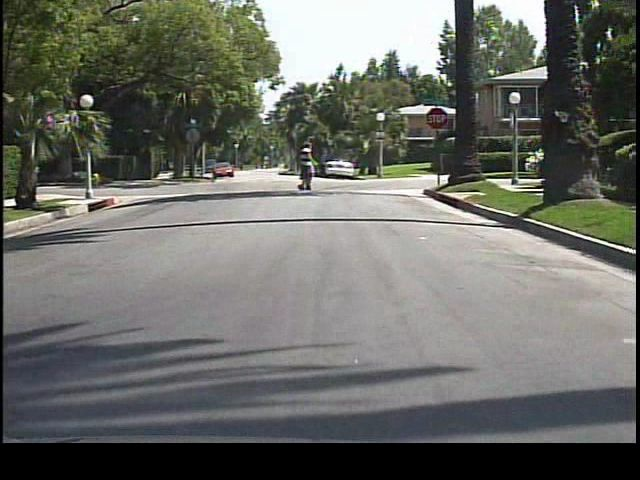person: (294, 144, 315, 193)
